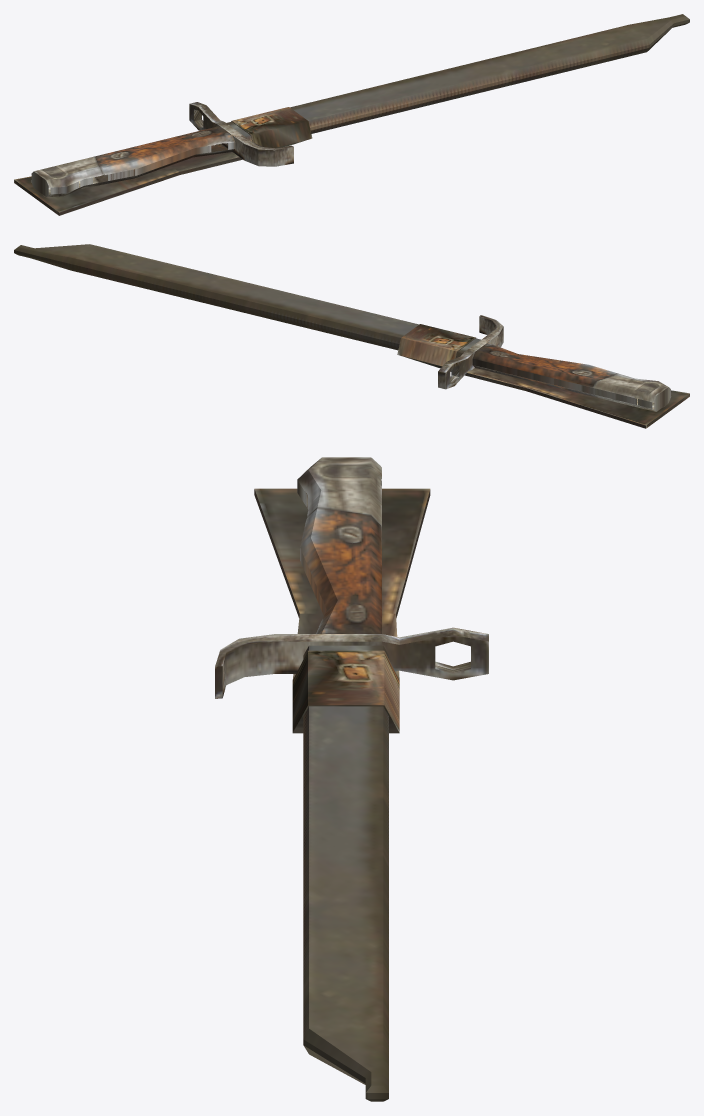
The model's file is Arisaka-T30-Bayonet.fbx.
3 views of the same model, one above another, from view 1: azimuth 30°, elevation 25°; view 2: azimuth 150°, elevation 25°; view 3: azimuth 270°, elevation 25° (orthographic). The views are drawn at different scales.
Parts seen in each view (by area): view 1: Arisaka-T30-scaberd, Arisaka-T30-Bayonet, Arisaka-T30-belt; view 2: Arisaka-T30-scaberd, Arisaka-T30-Bayonet, Arisaka-T30-belt; view 3: Arisaka-T30-scaberd, Arisaka-T30-Bayonet, Arisaka-T30-belt.
Part boxes in pixels (x1,y1,x2,y2): Arisaka-T30-scaberd: [226, 14, 689, 141]; Arisaka-T30-Bayonet: [31, 102, 293, 196]; Arisaka-T30-belt: [14, 107, 312, 215]; Arisaka-T30-scaberd: [14, 244, 480, 357]; Arisaka-T30-Bayonet: [438, 315, 671, 411]; Arisaka-T30-belt: [397, 324, 689, 428]; Arisaka-T30-scaberd: [303, 645, 388, 1101]; Arisaka-T30-Bayonet: [215, 457, 488, 698]; Arisaka-T30-belt: [254, 488, 430, 733].
Size of the model in its own units: 20.78 by 0.7502 by 3.84.
